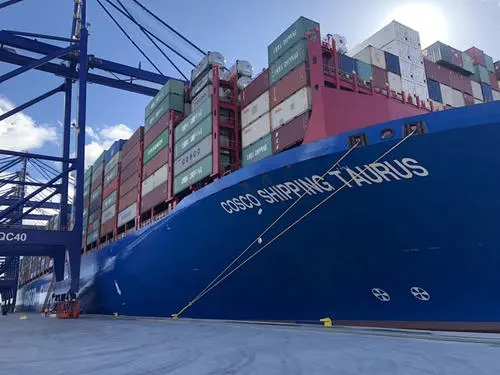Cargoship: (16, 12, 500, 315)
